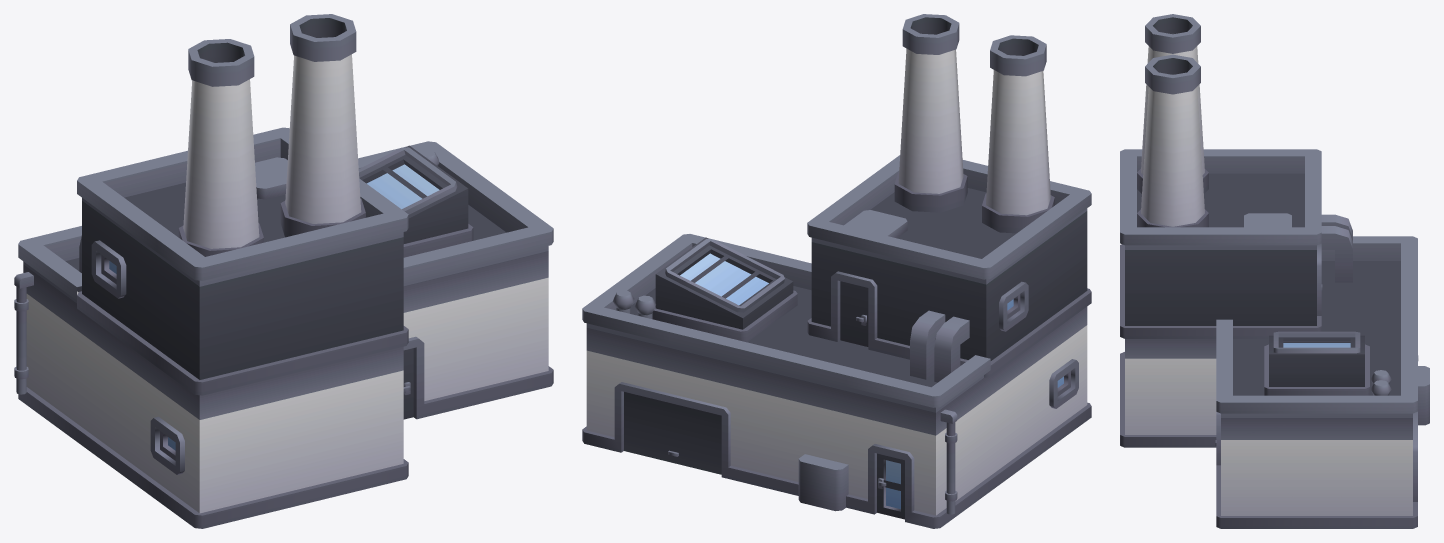
Rendered from building-e.glb.
3 views of the same model, side by side, from view 1: azimuth 30°, elevation 25°; view 2: azimuth 150°, elevation 25°; view 3: azimuth 270°, elevation 25° (orthographic). The views are drawn at different scales.
Parts seen in each view (by area): view 1: building-e; view 2: building-e; view 3: building-e.
Boxes of the visible parts, x1,y1,x2,y2 form: building-e: [14, 14, 553, 528]; building-e: [582, 14, 1091, 528]; building-e: [1120, 14, 1429, 528].
Bounding box in the file's own units: 1.68 × 1.65 × 1.29.
Materials: 1 (1 with a texture image).
